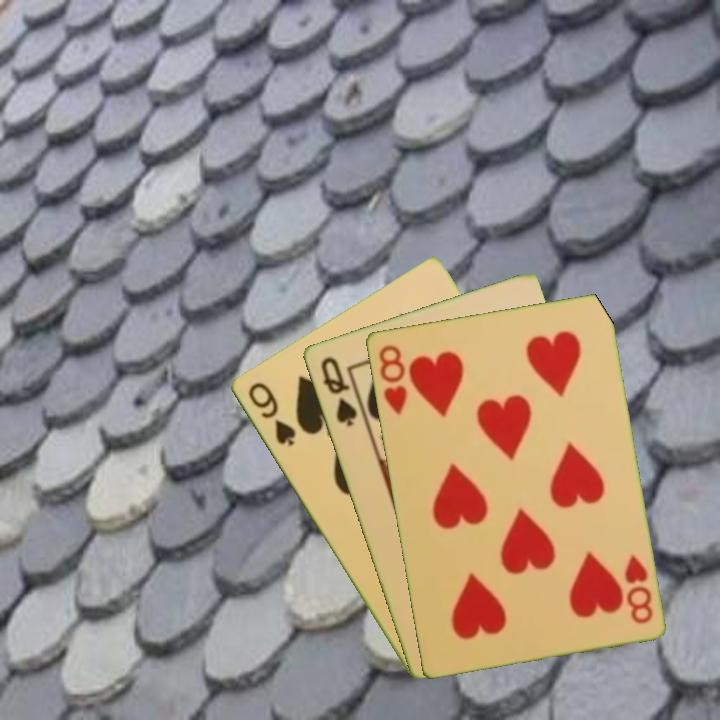8h: (374, 341, 410, 418), (620, 550, 656, 626)
9s: (243, 378, 299, 449)
Qs: (316, 353, 360, 429)
